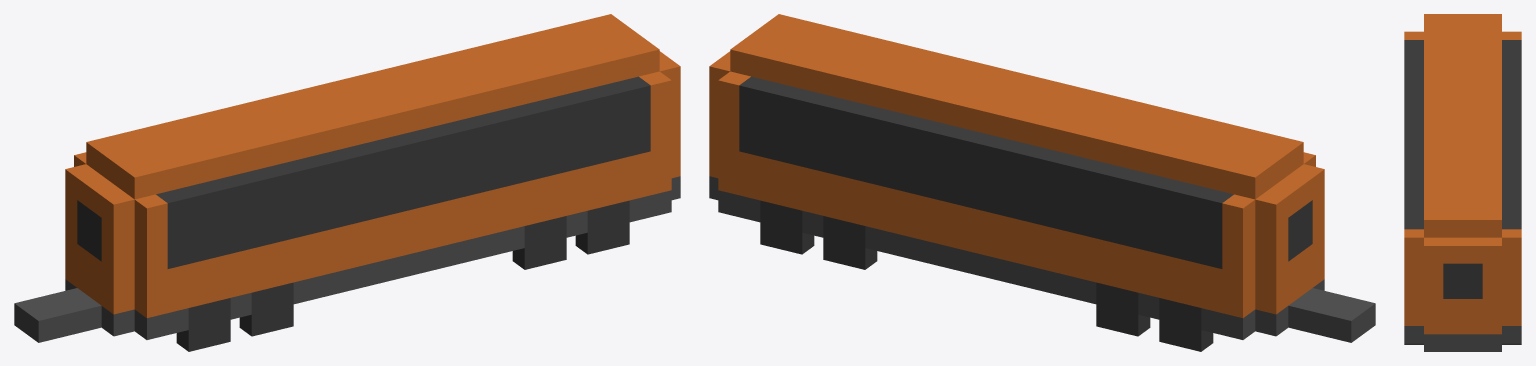
File: train-trailer-v1-orange.gltf
3 renders of one model, left to right at view 1: azimuth 30°, elevation 25°; view 2: azimuth 150°, elevation 25°; view 3: azimuth 270°, elevation 25°, orthographic. The views are drawn at different scales.
Parts seen in each view (by area): view 1: model, wheels; view 2: model, wheels; view 3: model.
Boxes of the visible parts, bbox=[...] form: model: bbox=[14, 14, 680, 342]; wheels: bbox=[176, 200, 629, 351]; model: bbox=[709, 14, 1375, 342]; wheels: bbox=[760, 200, 1213, 351]; model: bbox=[1404, 14, 1521, 351].
Size of the model in its own units: 3 by 0.8 by 0.6.
Materials: 2 (2 with a texture image).
